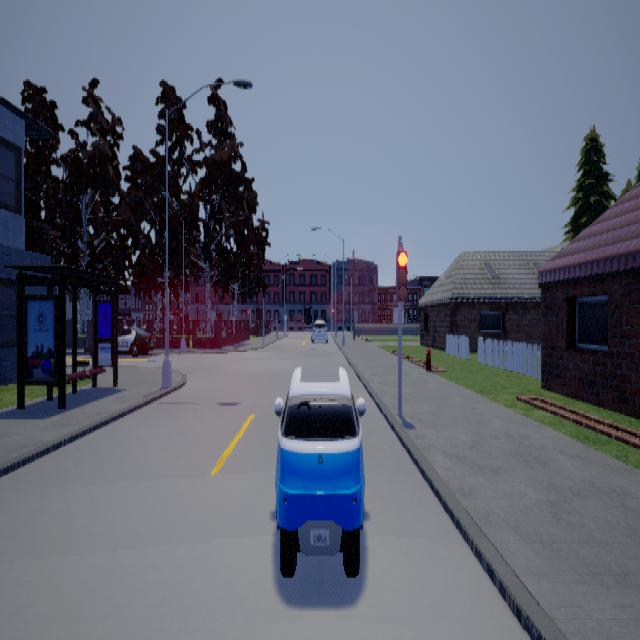red_light: (395, 239, 407, 310), (331, 308, 333, 317)
vehicle: (273, 364, 365, 576), (117, 322, 155, 355), (308, 317, 327, 340)
